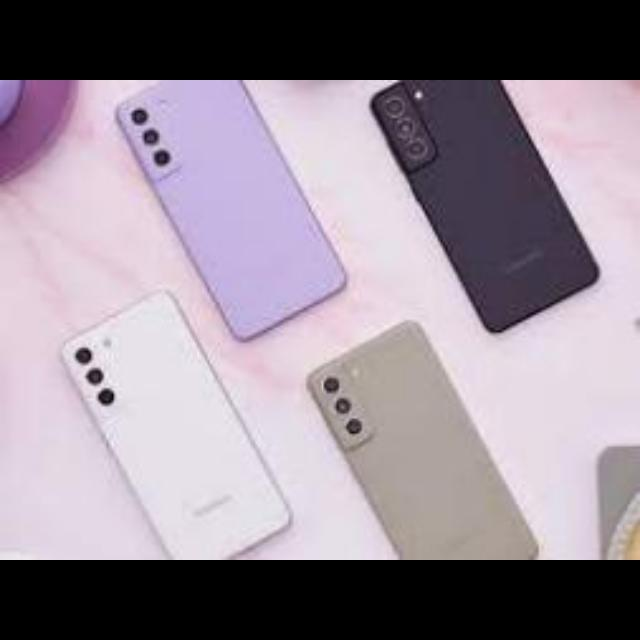Phone: (52, 304, 282, 560), (366, 94, 606, 330), (116, 85, 350, 312), (288, 370, 552, 560)
